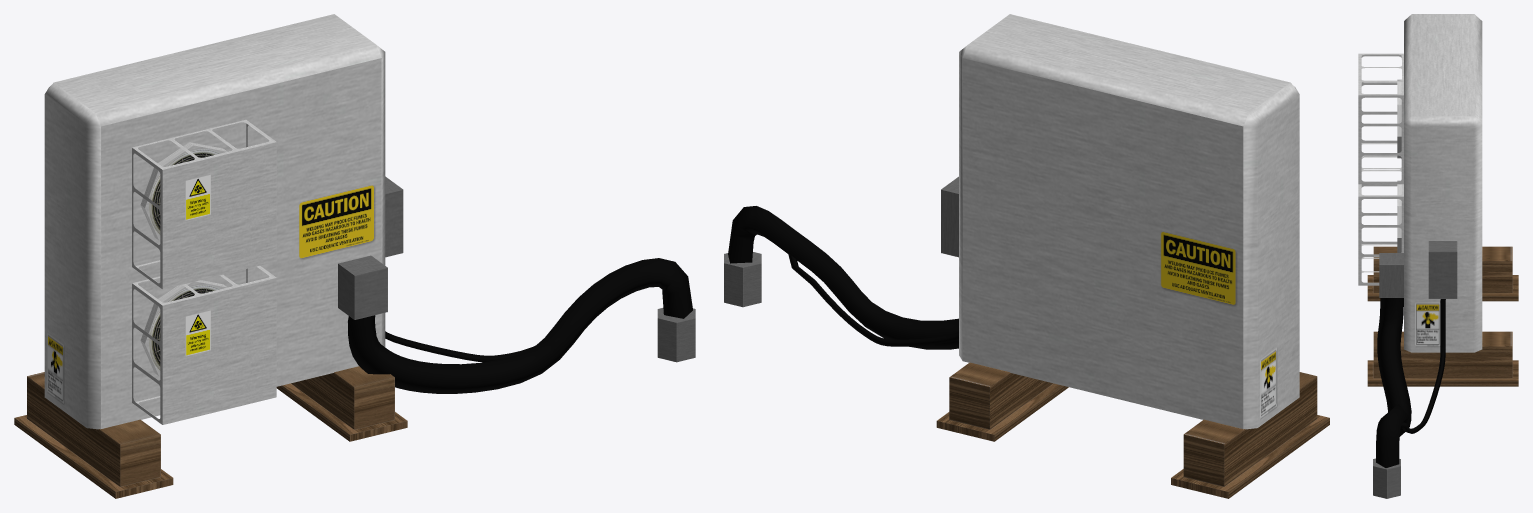
File: rc-vent2.fbx
The picture shows the model from 3 angles, left to right: view 1: azimuth 30°, elevation 25°; view 2: azimuth 150°, elevation 25°; view 3: azimuth 270°, elevation 25°; orthographic projection. The views are drawn at different scales.
Parts seen in each view (by area): view 1: vent2; view 2: vent2; view 3: vent2.
Part boxes in pixels (x1,y1,x2,y2): vent2: (14, 14, 695, 498); vent2: (724, 14, 1329, 498); vent2: (1358, 14, 1518, 498).
Bounding box in the file's own units: 139 × 82.04 × 43.68.
